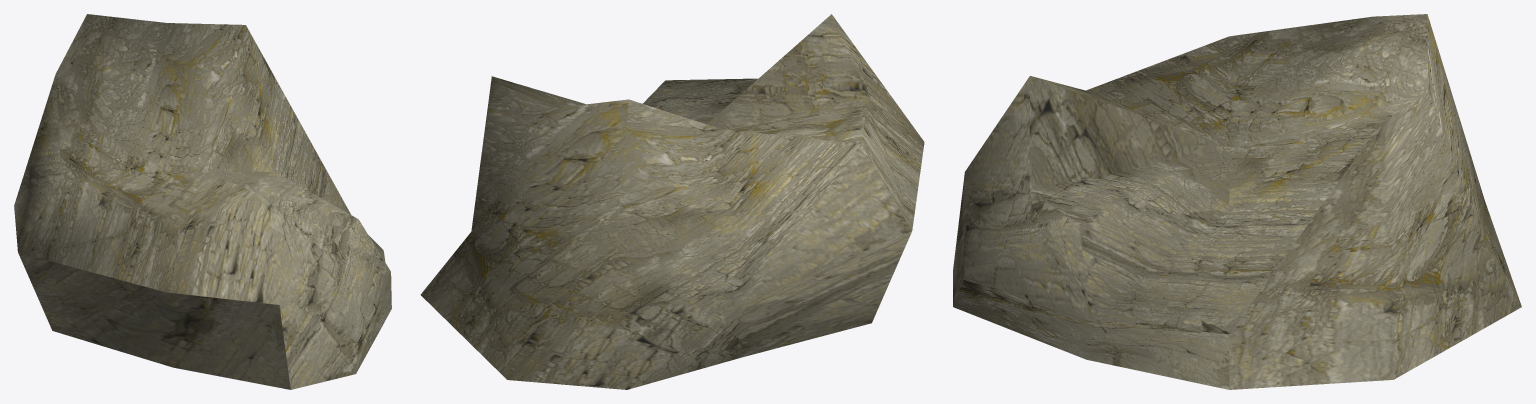
File: stone_granite_boulder_0.glb
The picture shows the model from 3 angles, left to right: view 1: azimuth 30°, elevation 25°; view 2: azimuth 150°, elevation 25°; view 3: azimuth 270°, elevation 25°; orthographic projection. The views are drawn at different scales.
Visible parts, largest first — view 1: stone_granite_boulder_0; view 2: stone_granite_boulder_0; view 3: stone_granite_boulder_0.
Part boxes in pixels (left/top/right/bottom): stone_granite_boulder_0: left=14, top=14, right=391, bottom=389; stone_granite_boulder_0: left=420, top=14, right=924, bottom=389; stone_granite_boulder_0: left=953, top=14, right=1521, bottom=389.
Bounding box in the file's own units: 3.6 × 2.11 × 4.22.
1 material, 1 textured.
